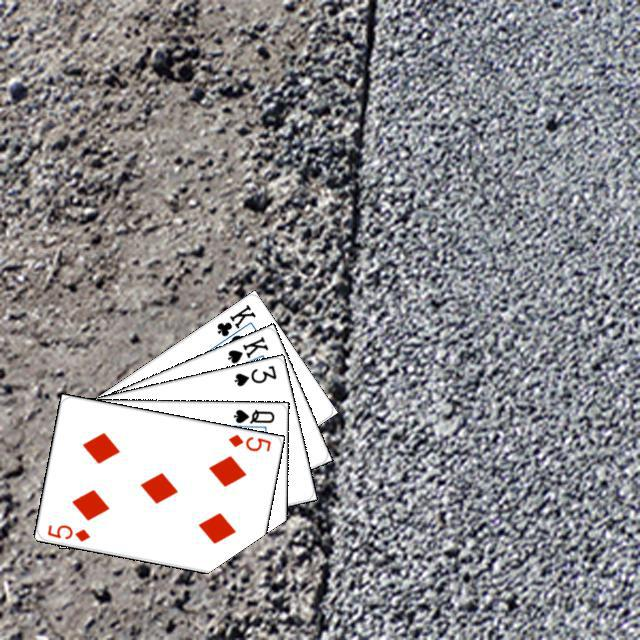3s: (229, 360, 278, 388)
5d: (223, 429, 273, 453), (42, 520, 92, 543)
Kc: (212, 299, 258, 346)
Ks: (222, 331, 270, 365)
Qs: (229, 404, 276, 425)
